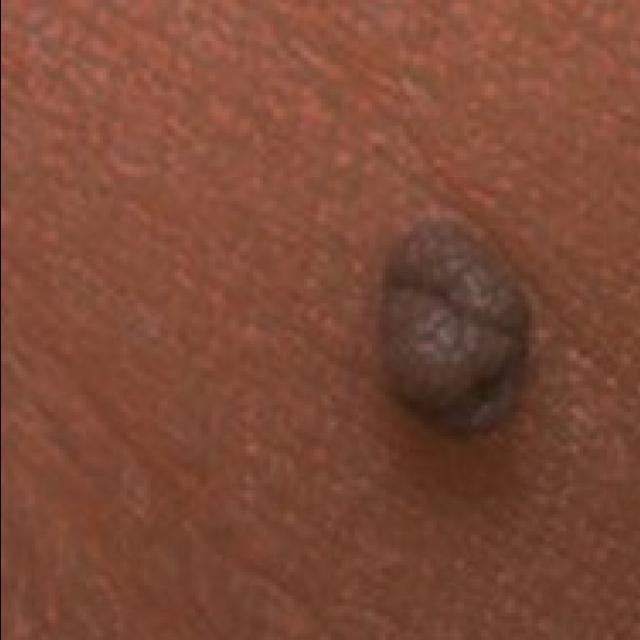wart: (347, 173, 569, 470)
